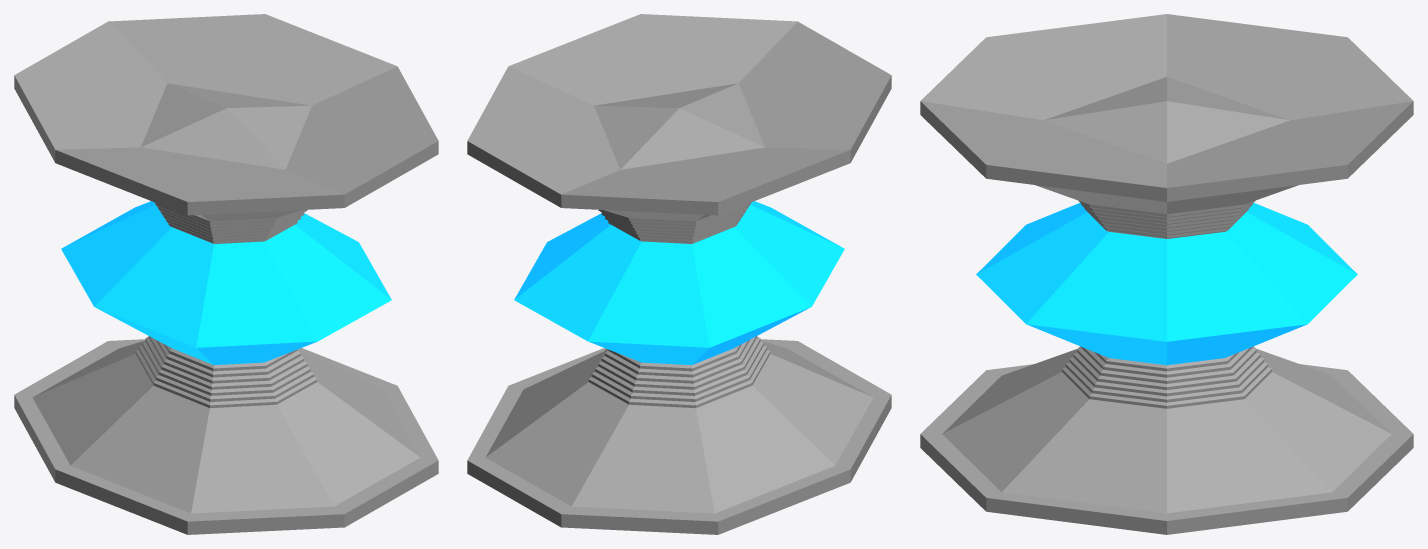
The model's file is Generator.fbx.
The picture shows the model from 3 angles, left to right: view 1: azimuth 30°, elevation 25°; view 2: azimuth 150°, elevation 25°; view 3: azimuth 270°, elevation 25°; orthographic projection. The views are drawn at different scales.
Parts seen in each view (by area): view 1: gen; view 2: gen; view 3: gen.
Part boxes in pixels (x1,y1,x2,y2): gen: [14, 14, 438, 534]; gen: [467, 14, 891, 534]; gen: [920, 14, 1413, 534].
Size of the model in its own units: 539 by 646 by 501.
